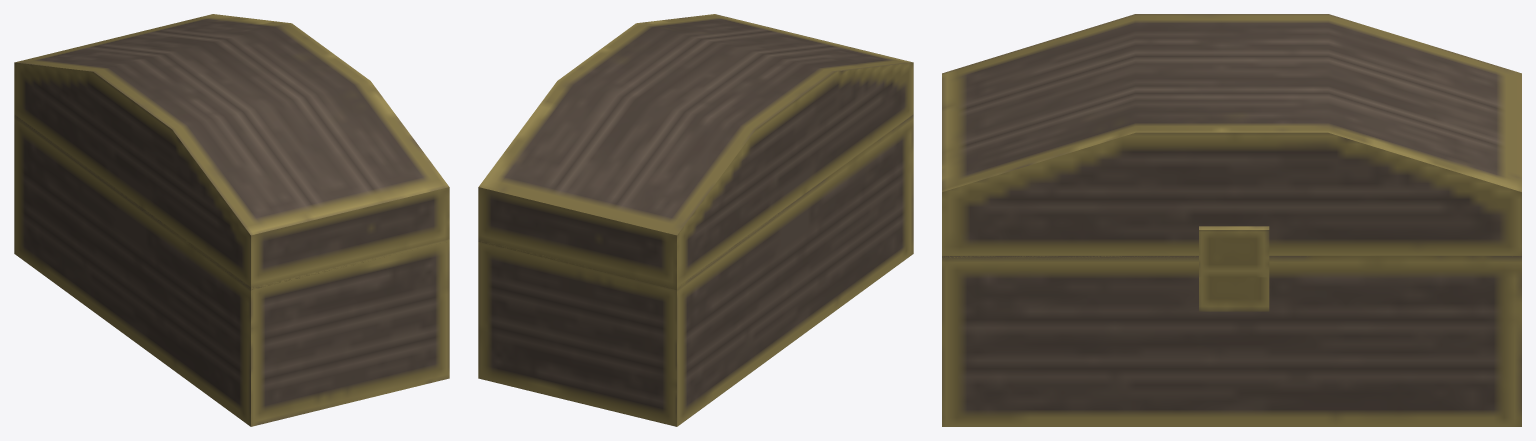
Rendered from GoldTreasureBox.fbx.
3 renders of one model, left to right at view 1: azimuth 30°, elevation 25°; view 2: azimuth 150°, elevation 25°; view 3: azimuth 270°, elevation 25°, orthographic. The views are drawn at different scales.
Parts seen in each view (by area): view 1: polySurface438, polySurface437; view 2: polySurface438, polySurface437; view 3: polySurface438, polySurface437.
Part boxes in pixels (<box>): polySurface438: <box>14,14,449,290</box>; polySurface437: <box>14,115,449,426</box>; polySurface438: <box>478,14,913,290</box>; polySurface437: <box>478,114,913,426</box>; polySurface438: <box>942,14,1521,277</box>; polySurface437: <box>942,256,1521,426</box>.
Size of the model in its own units: 438 by 489 by 874.
